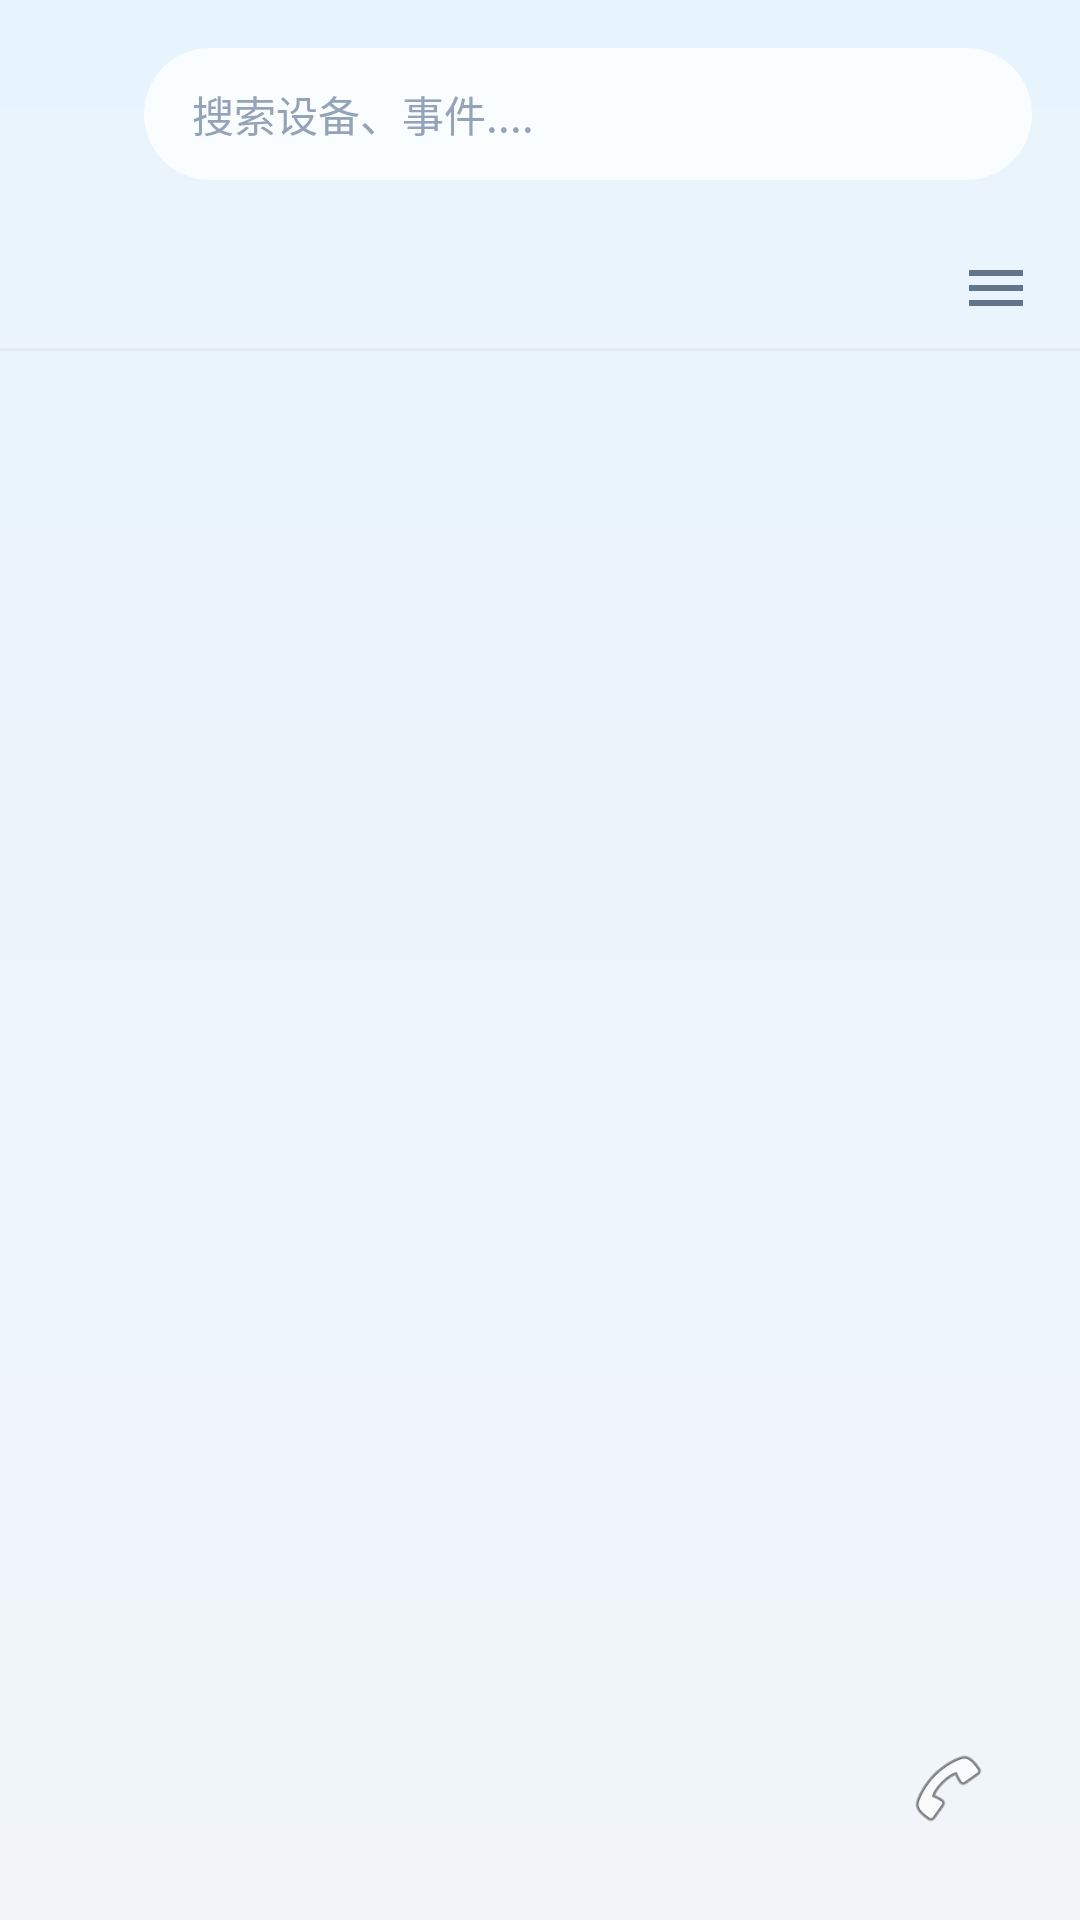

Screen size 1080 × 1920. Icon name, then its center in pixels as (x=x, y=y):
拨号: (x=948, y=1788)
